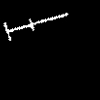double_crochet: (4, 13, 67, 40)
